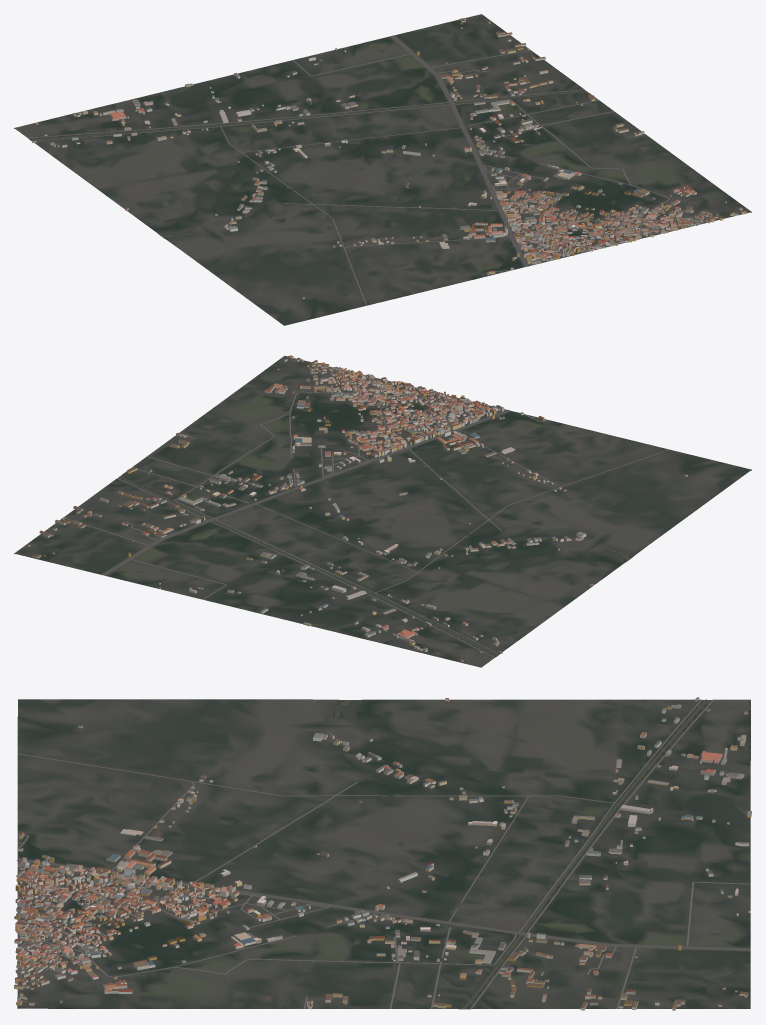
3 renders of one model, top to bottom at view 1: azimuth 30°, elevation 25°; view 2: azimuth 150°, elevation 25°; view 3: azimuth 270°, elevation 25°, orthographic. The views are drawn at different scales.
Visible parts, largest first — view 1: ground, buildings, roads, water; view 2: ground, buildings, roads, water; view 3: ground, buildings, roads, water.
Boxes of the visible parts, x1,y1,x2,y2 form: ground: (14,14,751,325); buildings: (32,18,746,298); roads: (28,35,739,305); water: (30,91,587,237); ground: (14,355,751,667); buildings: (27,355,687,661); roads: (65,359,669,657); water: (119,476,630,656); ground: (17,699,750,1009); buildings: (14,697,751,1010); roads: (17,699,750,1008); water: (335,699,707,1009).
Bounding box in the file's own units: 1410 × 22.55 × 1411.
